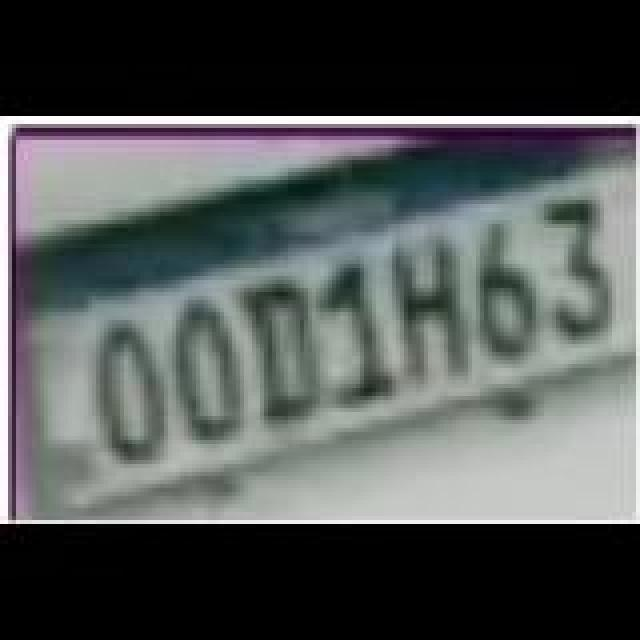1: (320, 262, 400, 410)
3: (544, 200, 616, 344)
6: (474, 222, 542, 362)
D: (242, 280, 326, 432)
H: (386, 238, 470, 386)
O: (92, 322, 172, 470), (172, 304, 252, 448)
